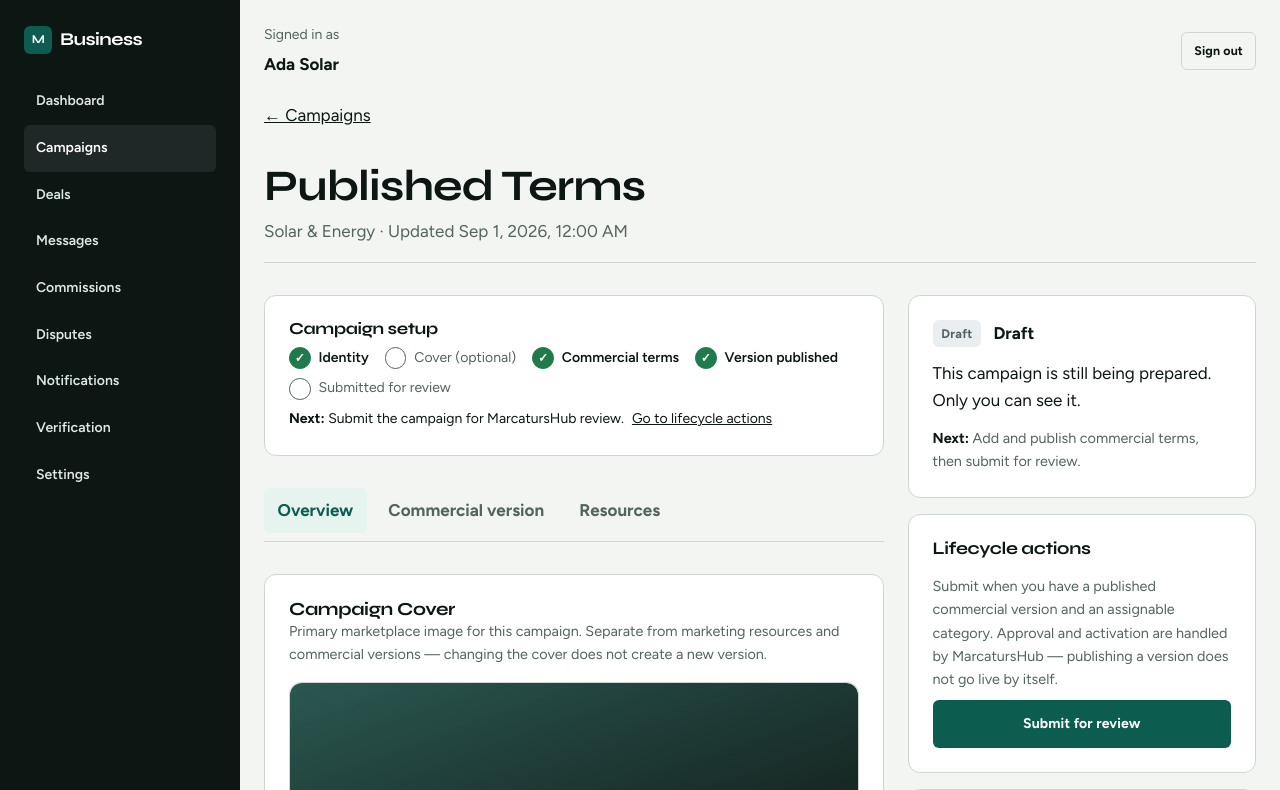
it: Business campaigns desk › shows published version as read-only
The width and height of the screenshot is (1280, 790).
Expected: the heading "Published Terms" is shown, [264, 162, 645, 210]
Click the tab "Commercial version": (466, 510) [375, 488, 558, 533]
(page scrolled)
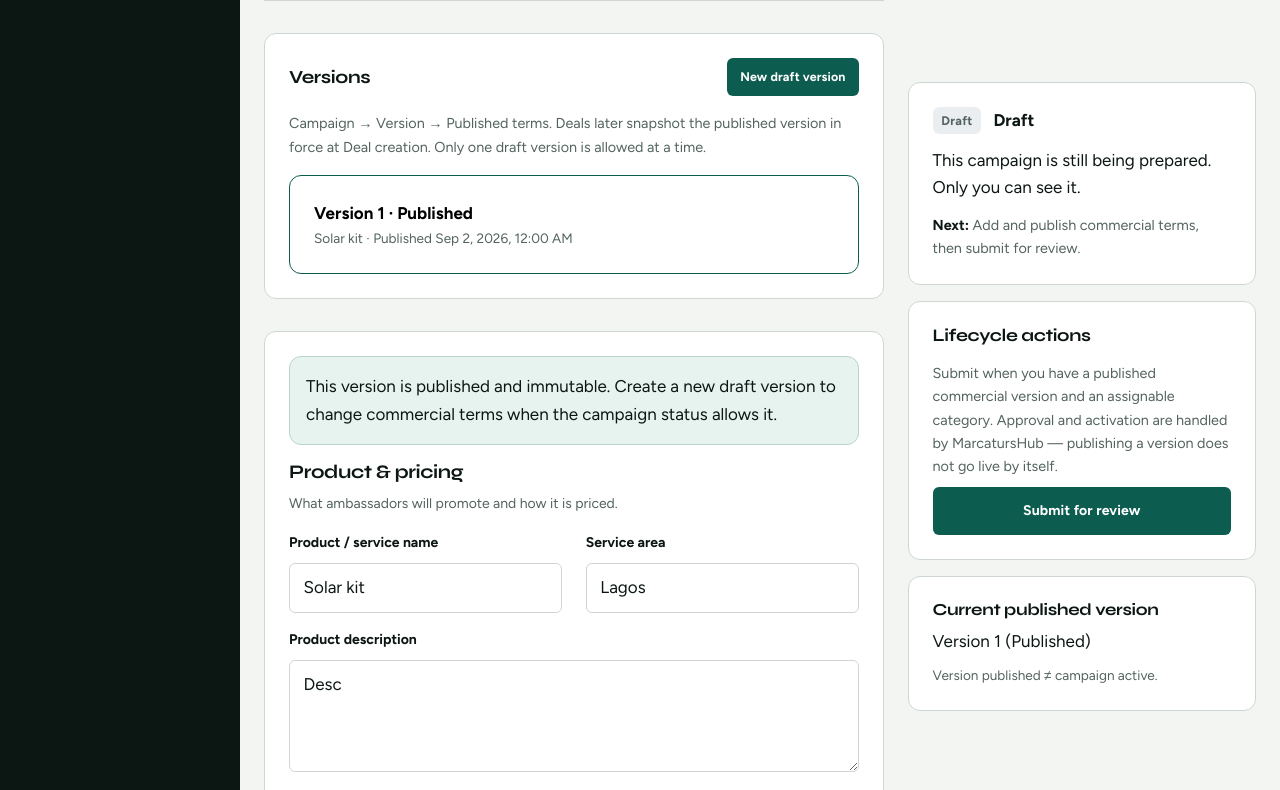
Expected: the text "published and immutable" is shown, [306, 376, 836, 424]
